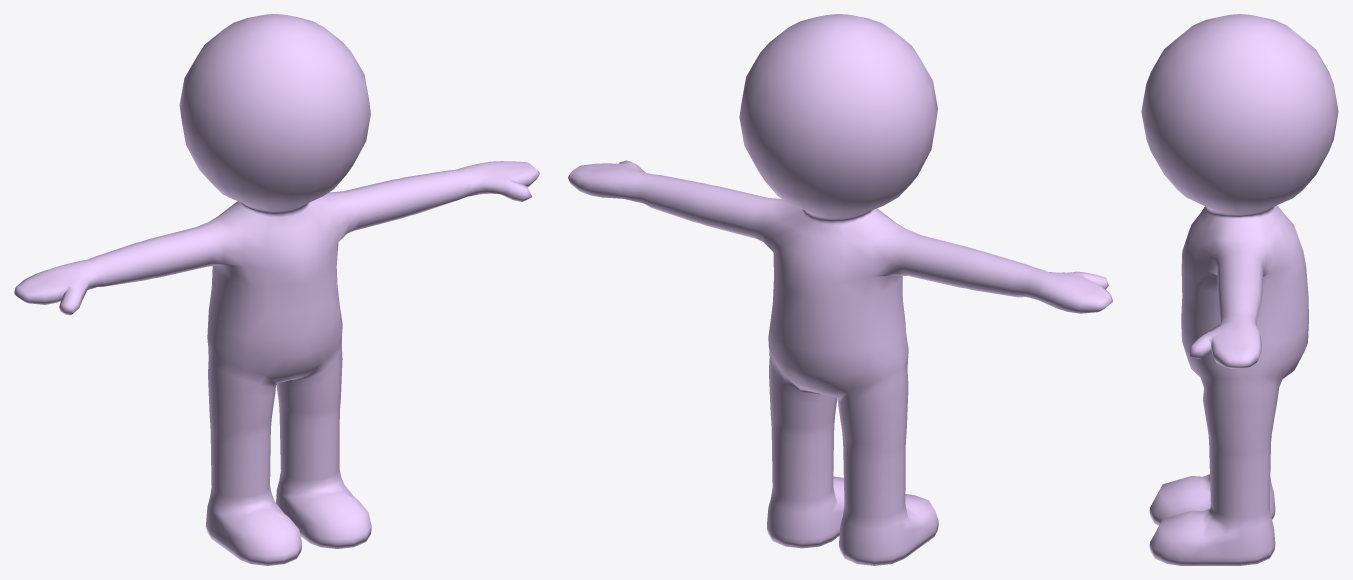
Rendered from Saygames stick (1).fbx.
The picture shows the model from 3 angles, left to right: view 1: azimuth 30°, elevation 25°; view 2: azimuth 150°, elevation 25°; view 3: azimuth 270°, elevation 25°; orthographic projection. The views are drawn at different scales.
Visible parts, largest first — view 1: Main; view 2: Main; view 3: Main.
Part boxes in pixels (bbox=[...]): Main: bbox=[14, 14, 539, 565]; Main: bbox=[568, 14, 1112, 565]; Main: bbox=[1141, 14, 1338, 565].
Bounding box in the file's own units: 163 × 151 × 52.67.
